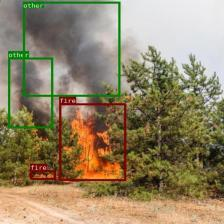fire: (58, 103, 125, 181), (29, 170, 56, 179)
